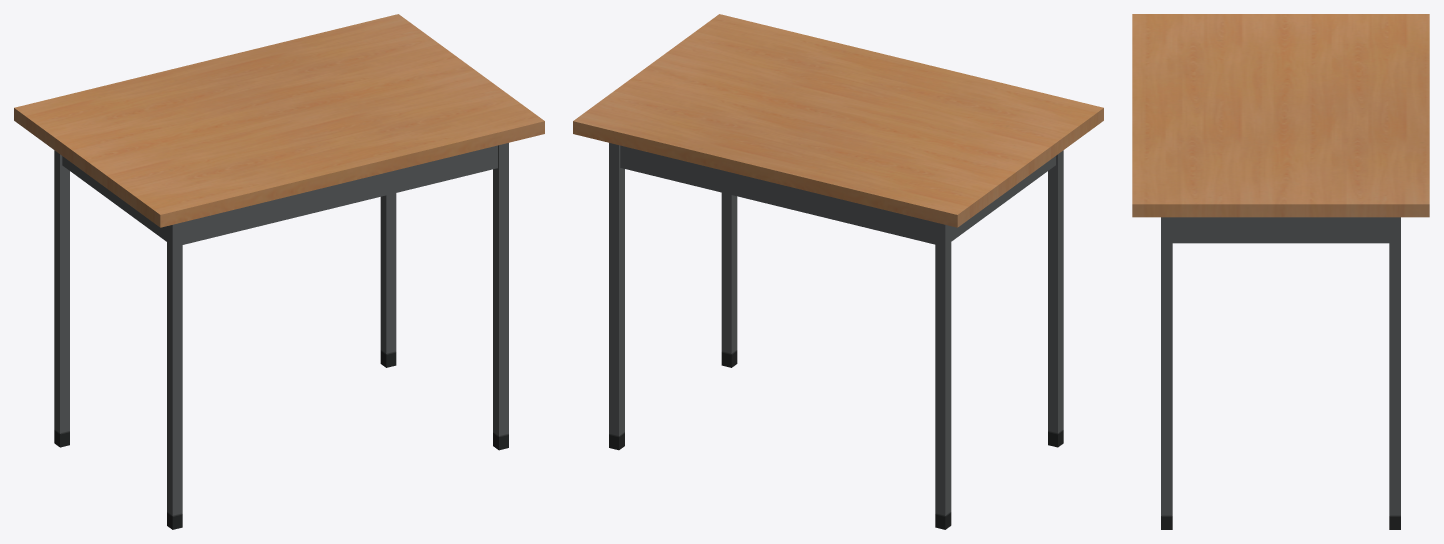
File: table3.FBX
3 views of the same model, side by side, from view 1: azimuth 30°, elevation 25°; view 2: azimuth 150°, elevation 25°; view 3: azimuth 270°, elevation 25° (orthographic).
Visible parts, largest first — view 1: table3; view 2: table3; view 3: table3.
Boxes of the visible parts, x1,y1,x2,y2 form: table3: [14, 14, 544, 529]; table3: [573, 14, 1103, 529]; table3: [1132, 14, 1429, 529].
Size of the model in its own units: 100 by 82.42 by 65.94.
